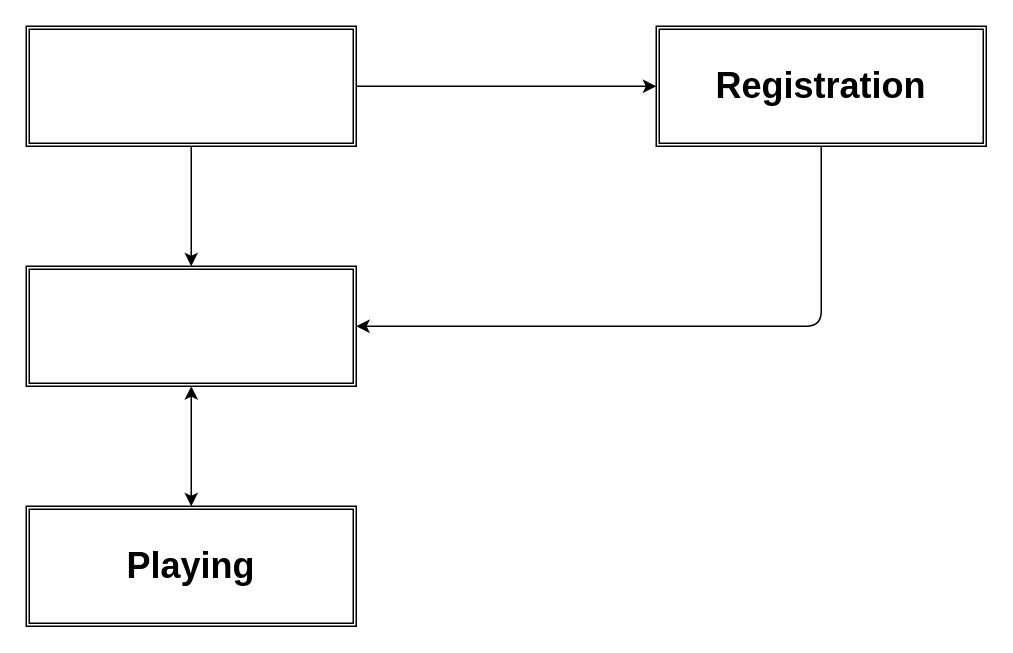
Image size: 1013x653. Some labels were removed from this diagram. The shapes that lost their labels are listed below. From the top down, each one's box as (x1, y1, x2, y2) in pixels, then its label:
(25, 25, 356, 146): C onnection
(25, 265, 356, 386): Choose a game
